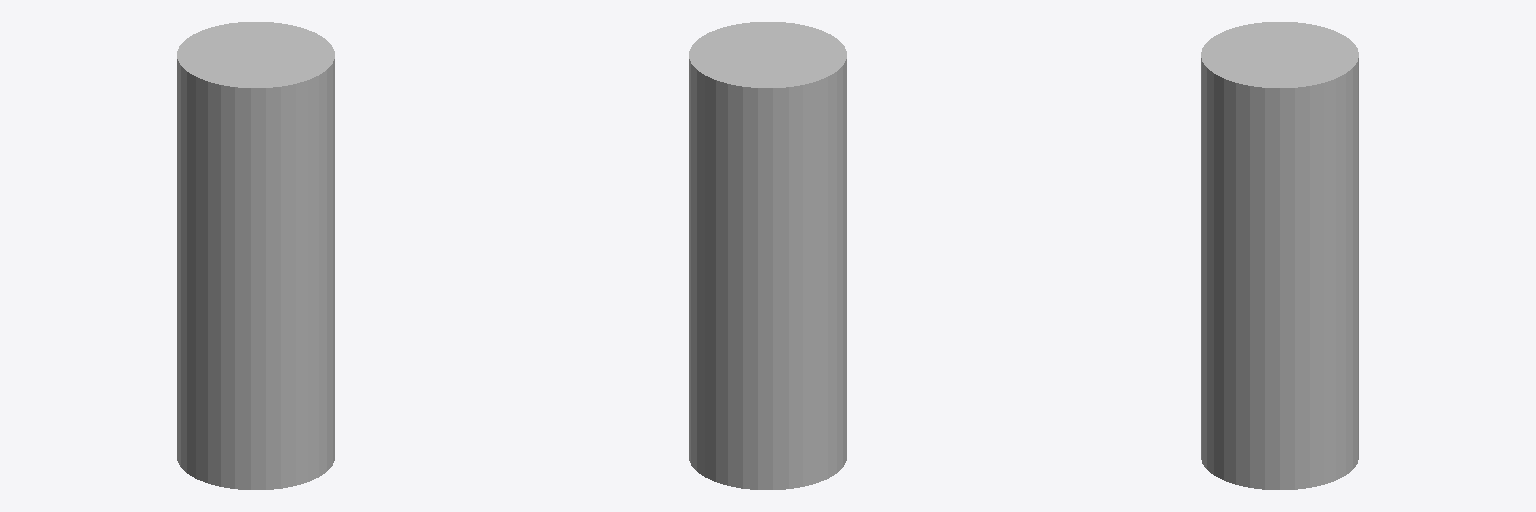
Rendered from MiniSuspensionUPM.obj.
3 views of the same model, side by side, from view 1: azimuth 30°, elevation 25°; view 2: azimuth 150°, elevation 25°; view 3: azimuth 270°, elevation 25° (orthographic).
Visible parts, largest first — view 1: 円柱; view 2: 円柱; view 3: 円柱.
Part boxes in pixels (bbox=[...]): 円柱: bbox=[177, 22, 334, 489]; 円柱: bbox=[689, 22, 846, 489]; 円柱: bbox=[1201, 22, 1358, 489].
Size of the model in its own units: 0.2 by 0.56 by 0.2.